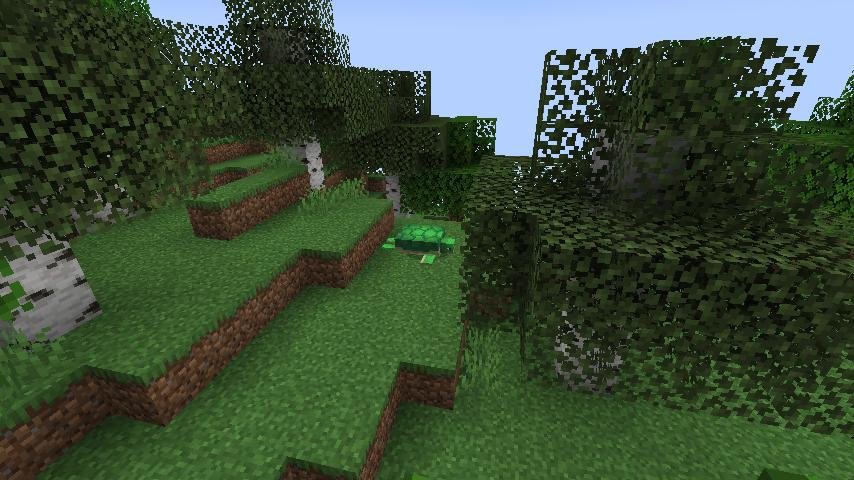turtle: (379, 220, 458, 266)
